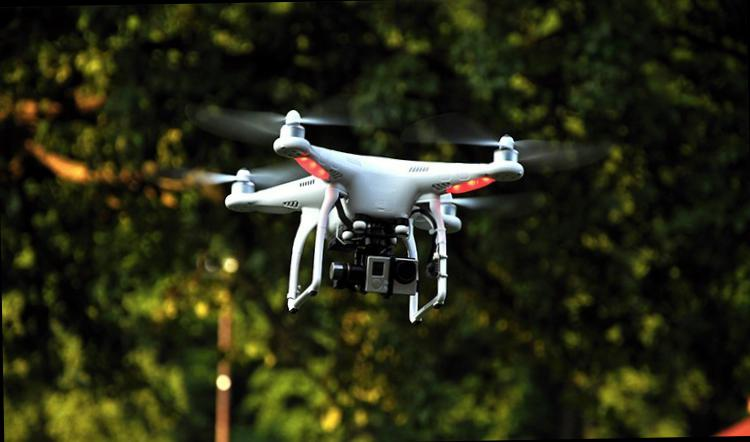drone: (220, 103, 531, 332)
